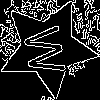W: (22, 22, 76, 77)
